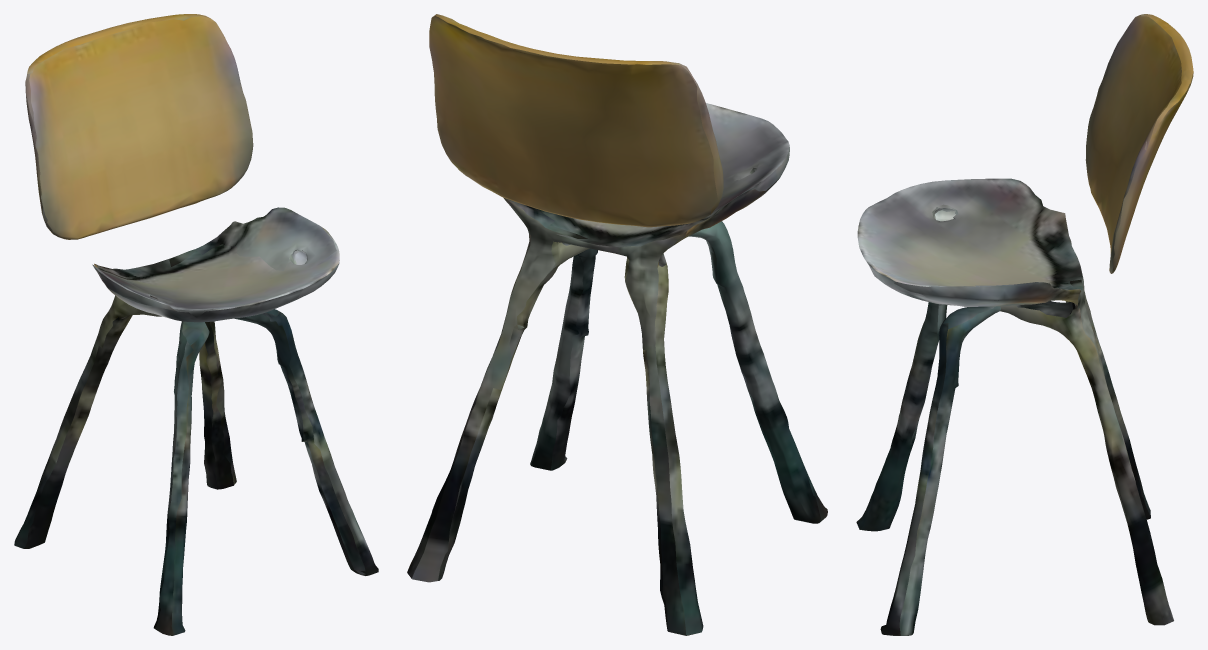
3 views of the same model, side by side, from view 1: azimuth 30°, elevation 25°; view 2: azimuth 150°, elevation 25°; view 3: azimuth 270°, elevation 25° (orthographic). The views are drawn at different scales.
Parts seen in each view (by area): view 1: world; view 2: world; view 3: world.
Boxes of the visible parts, x1,y1,x2,y2 form: world: [14, 14, 378, 635]; world: [407, 14, 827, 635]; world: [856, 14, 1193, 635].
Bounding box in the file's own units: 0.2921 × 0.5299 × 0.3189.
1 material, 1 textured.
